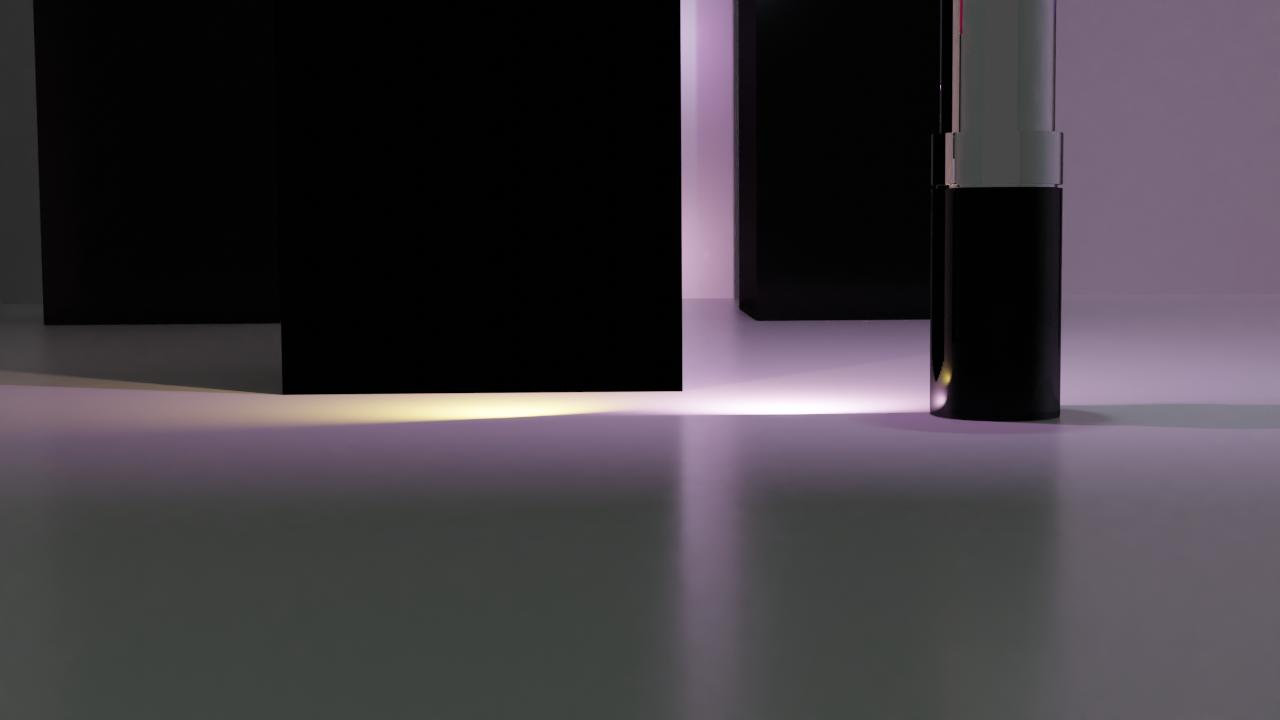CLASSIFIER_NAME: (927, 0, 1067, 431)
